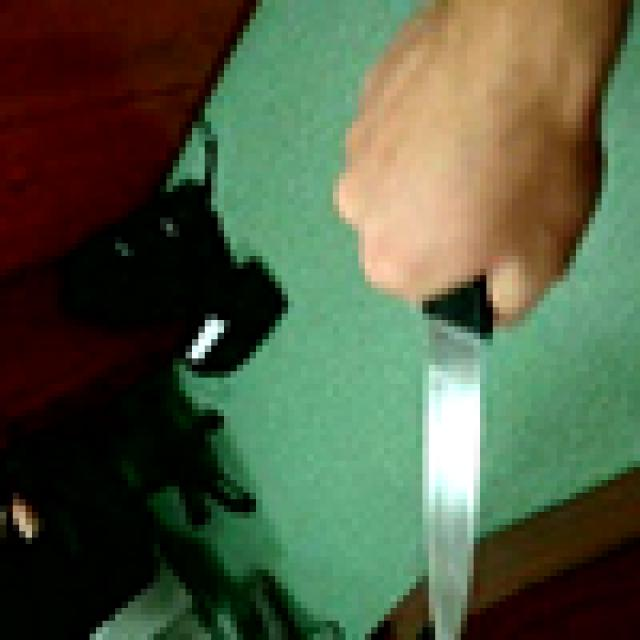Weapons: (420, 286, 482, 640)
